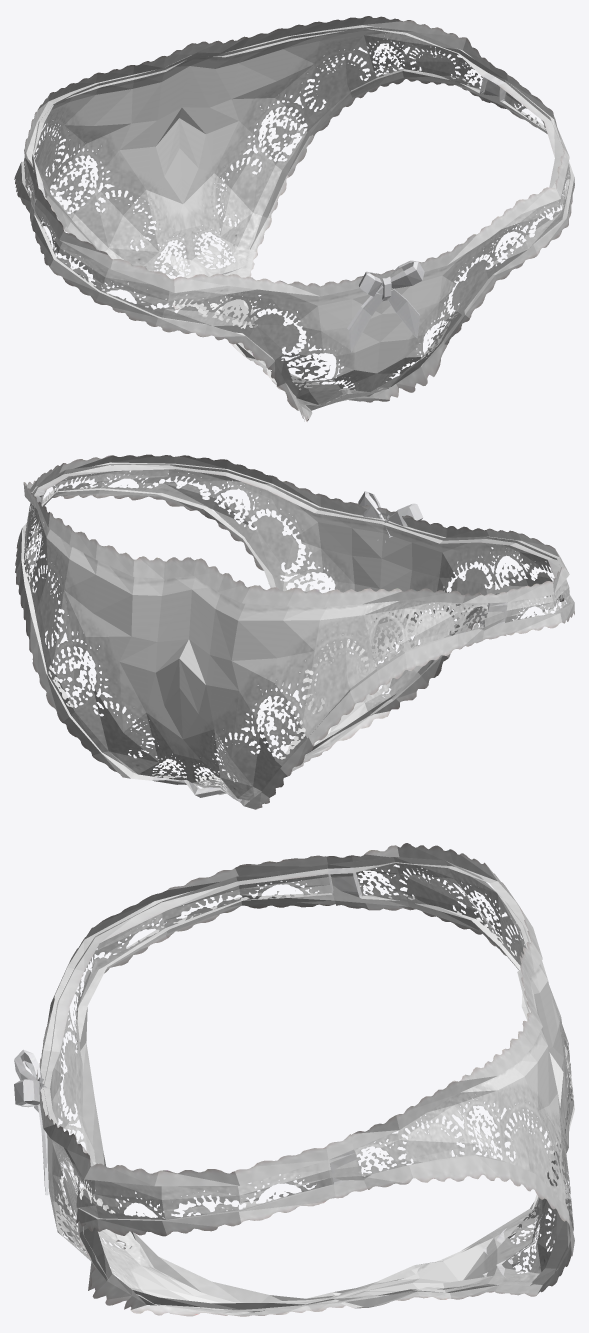
File: mhw_punkduck_french_lingerie_mini_briefs.glb
3 renders of one model, top to bottom at view 1: azimuth 30°, elevation 25°; view 2: azimuth 150°, elevation 25°; view 3: azimuth 270°, elevation 25°, orthographic. The views are drawn at different scales.
Parts seen in each view (by area): view 1: mhw_punkduck_french_lingerie_mini_briefs; view 2: mhw_punkduck_french_lingerie_mini_briefs; view 3: mhw_punkduck_french_lingerie_mini_briefs.
Part boxes in pixels (x1,y1,x2,y2): mhw_punkduck_french_lingerie_mini_briefs: [14, 16, 574, 421]; mhw_punkduck_french_lingerie_mini_briefs: [15, 454, 574, 809]; mhw_punkduck_french_lingerie_mini_briefs: [14, 843, 574, 1316].
Size of the model in its own units: 0.3447 by 0.1804 by 0.2553.
1 material, 1 textured.
